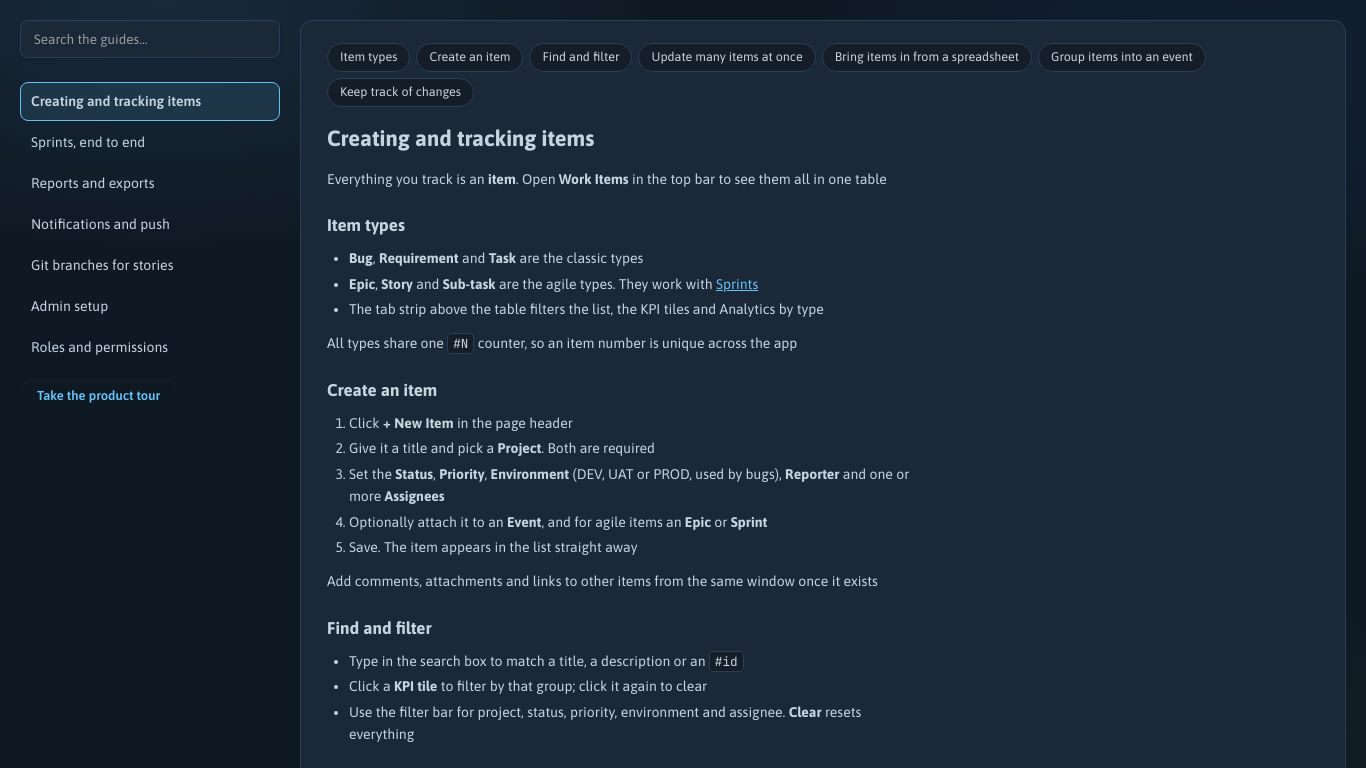
Test: HelpCenter › filters by search and reports when nothing matches
In the search field labelled "Search the guides": (150, 39) [20,20,280,58], type "digest"
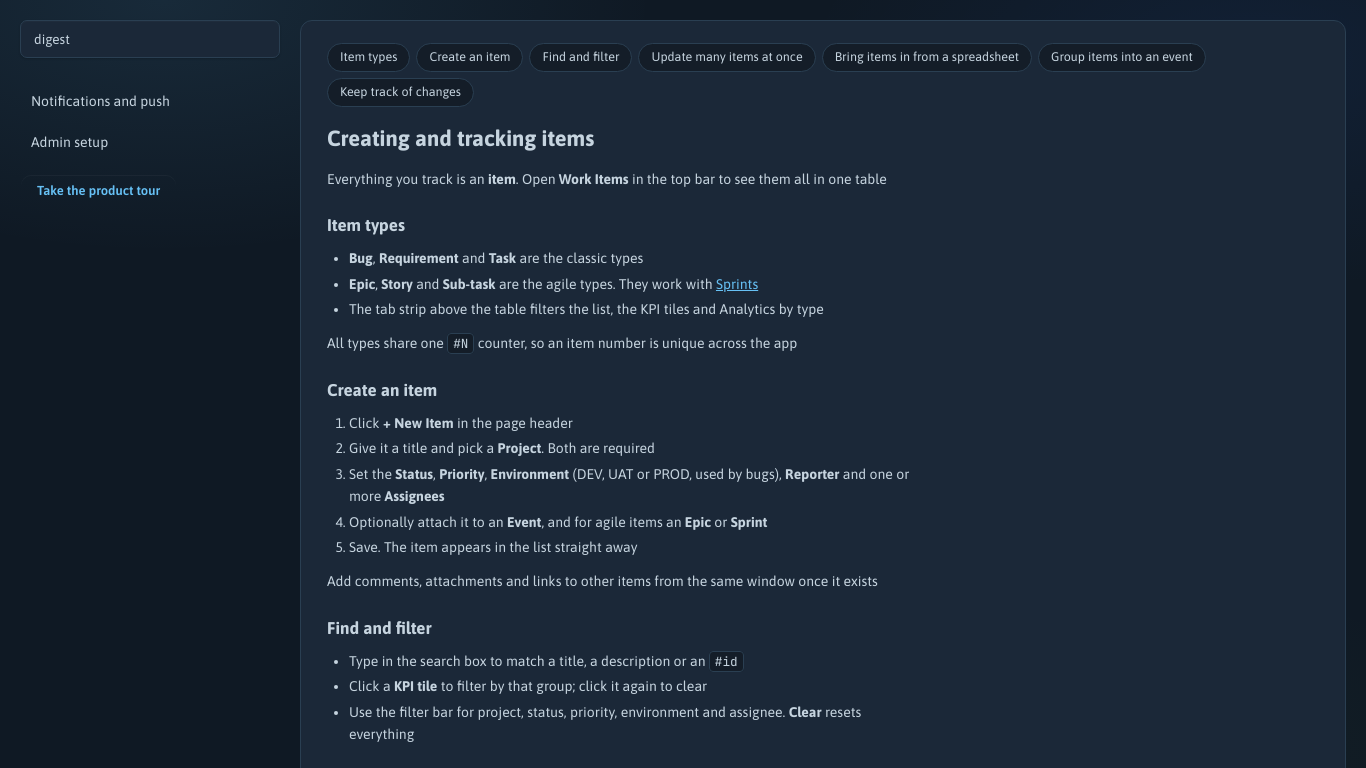
Expected: the button "Notifications and push" is shown, [20,82,280,121]
Now the button "Roles and permissions" is gone
Replace the text in the search field named "Search the guides" with "qqqq": (150, 39) [20,20,280,58]
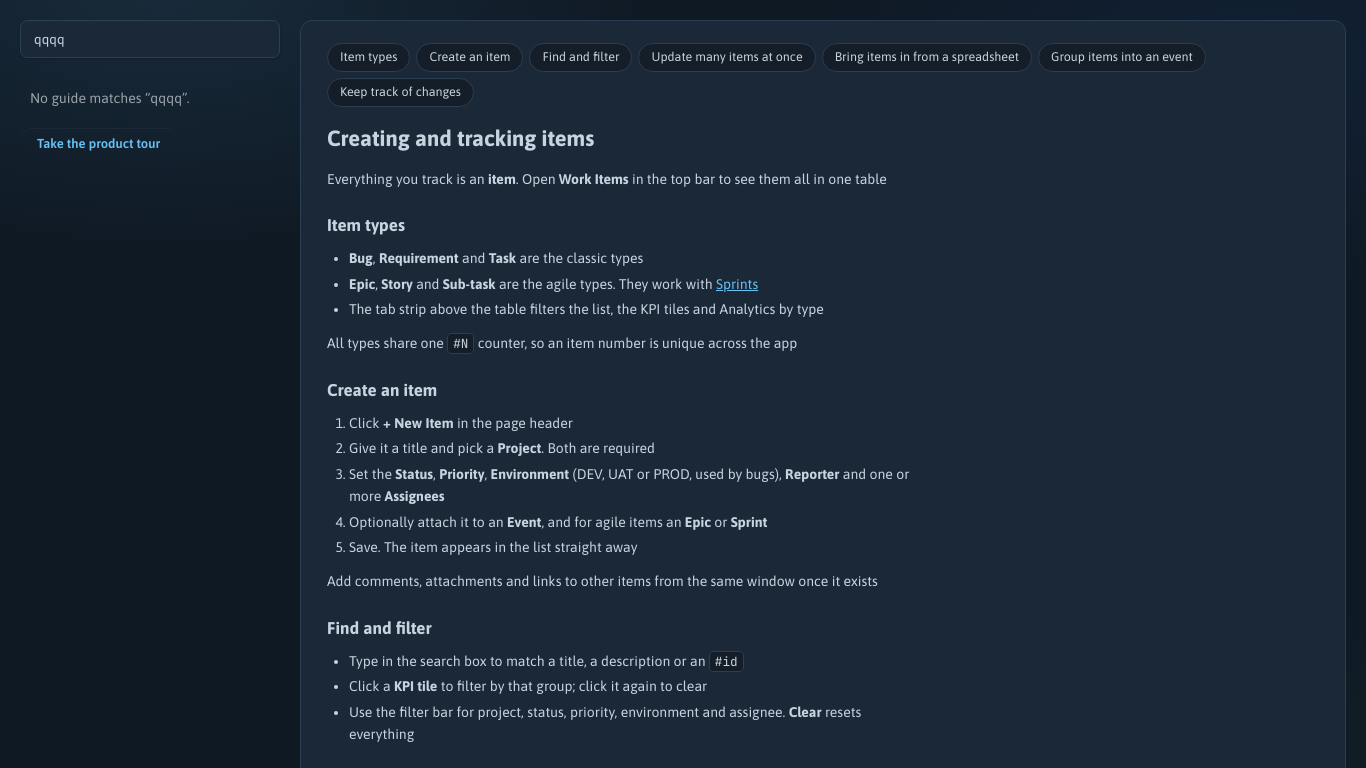
Now the text "No guide matches “qqqq”." is shown, box [30,90,190,106]
